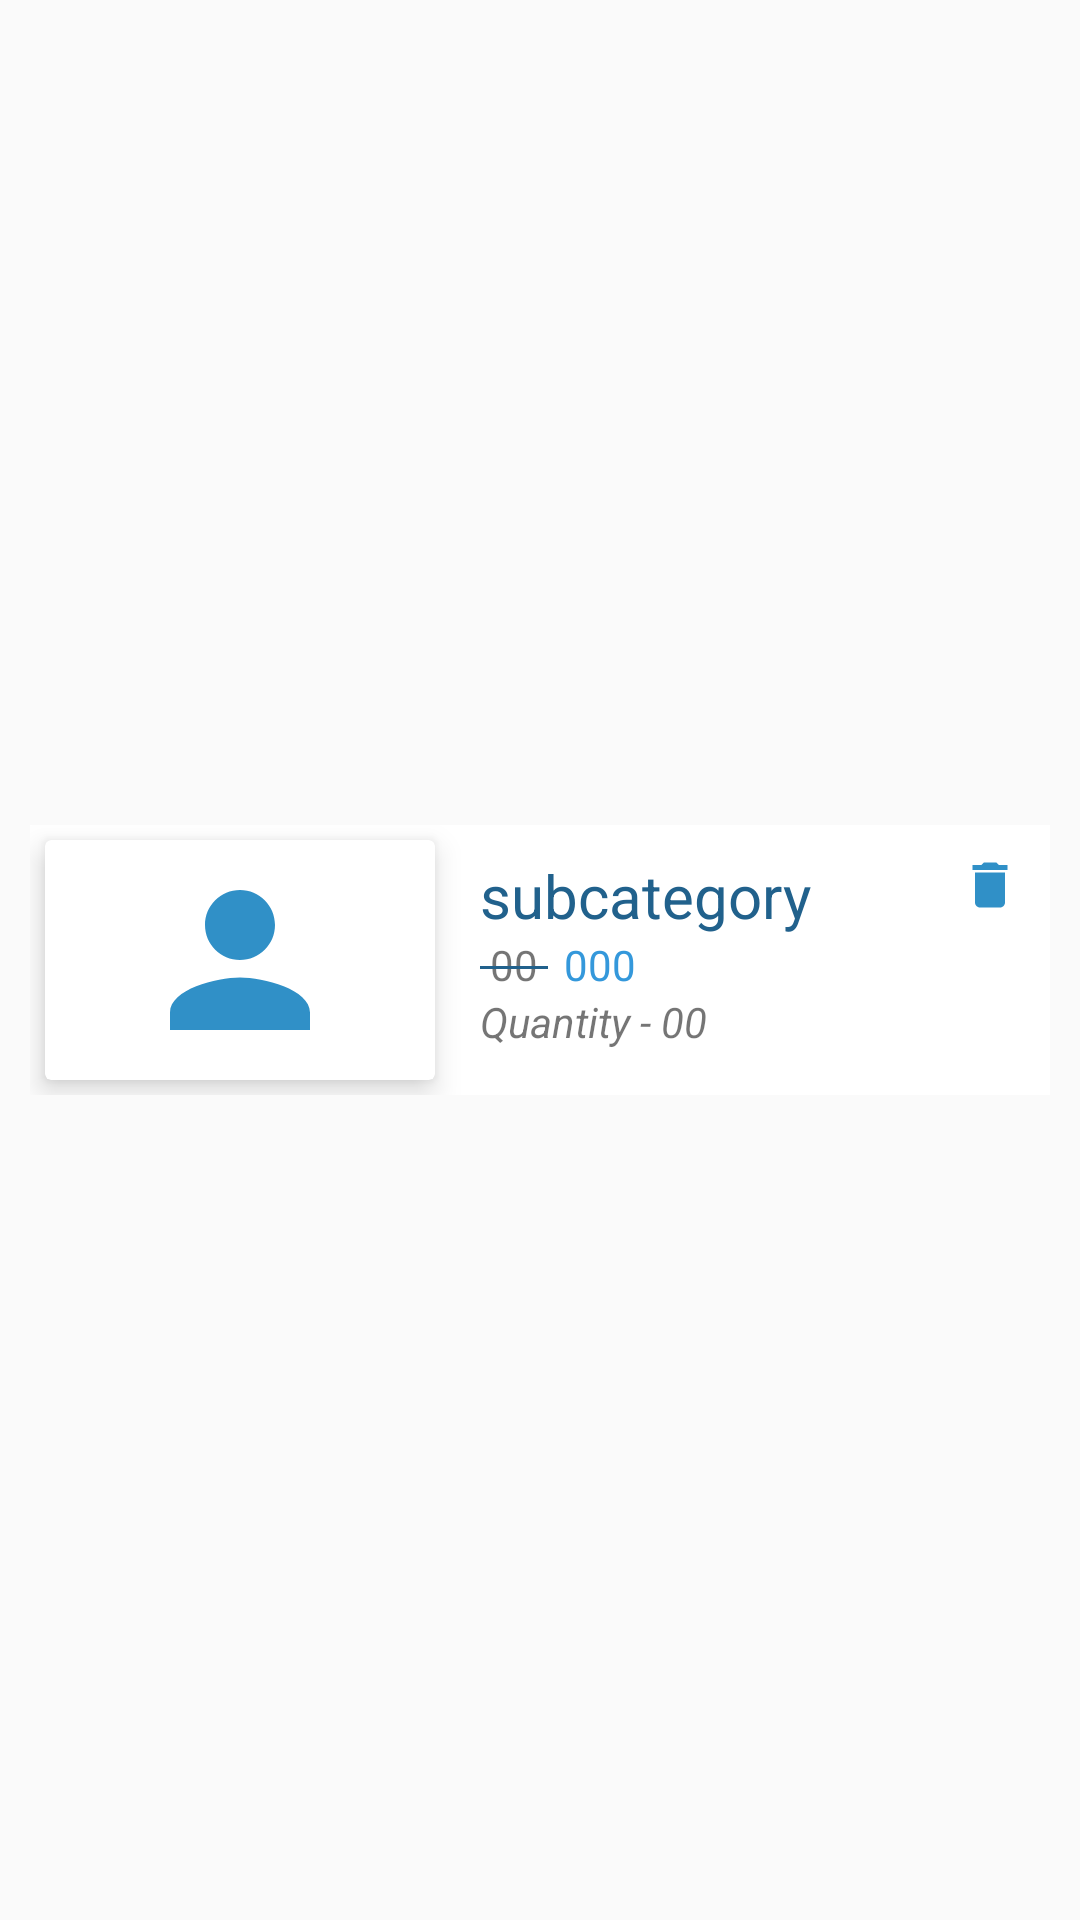

Icon click points for this 1080×1920 phone screenshot, format (x,y):
delete: (990,885)
person: (240,960)
